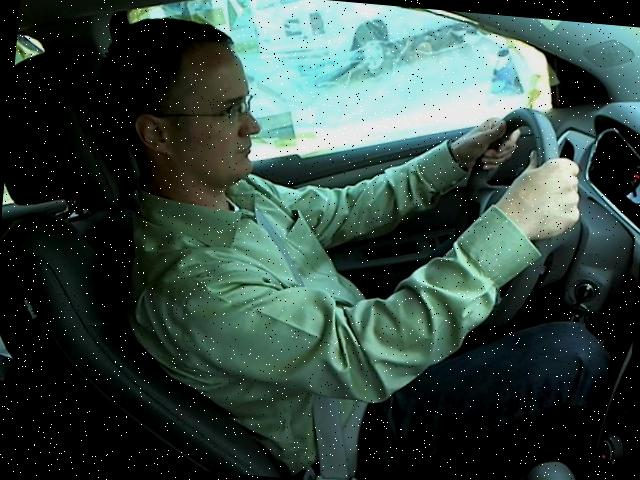c0 - Safe Driving: (66, 12, 598, 421)
